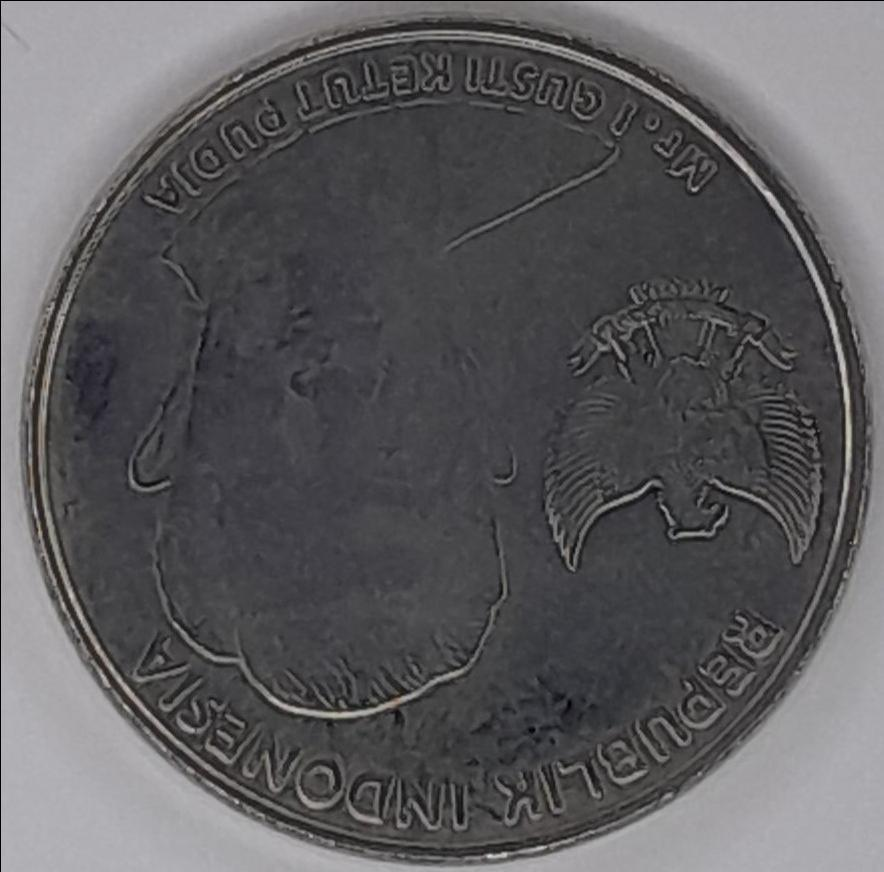coin_1000_e2016: (15, 17, 872, 872)
